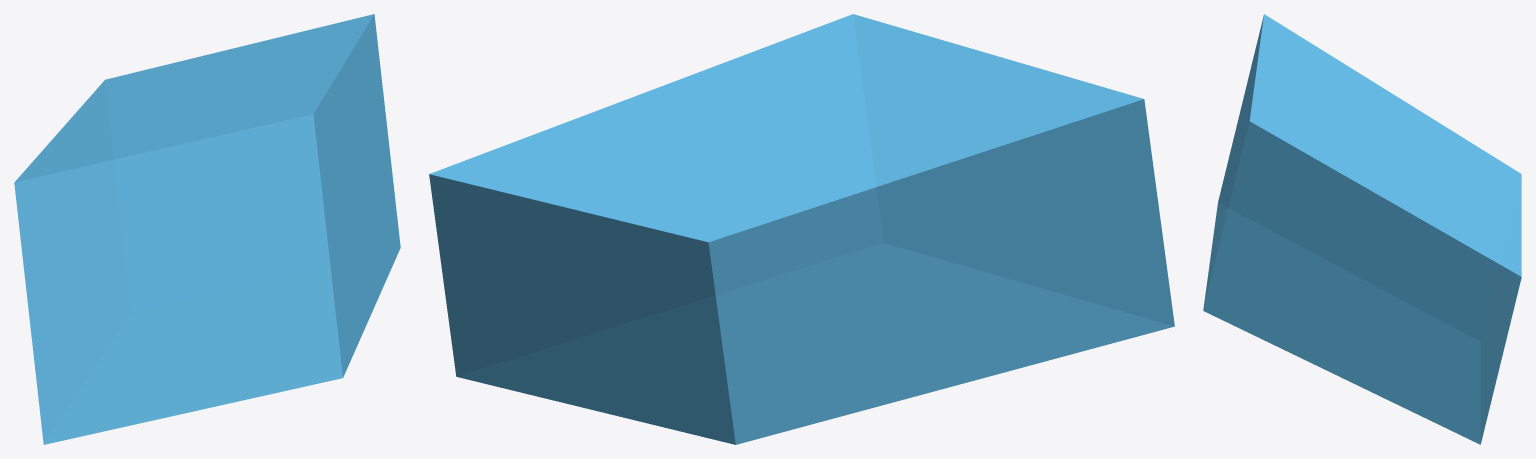
Rendered from Event_420107950_HBrechit_5.fbx.
3 views of the same model, side by side, from view 1: azimuth 30°, elevation 25°; view 2: azimuth 150°, elevation 25°; view 3: azimuth 270°, elevation 25° (orthographic). The views are drawn at different scales.
Parts seen in each view (by area): view 1: Model; view 2: Model; view 3: Model.
Boxes of the visible parts, box(x1,y1,x2,y2) form: Model: box(14, 14, 400, 444); Model: box(429, 14, 1174, 444); Model: box(1203, 14, 1521, 444).
Bounding box in the file's own units: 1 × 0.5465 × 0.6743.
